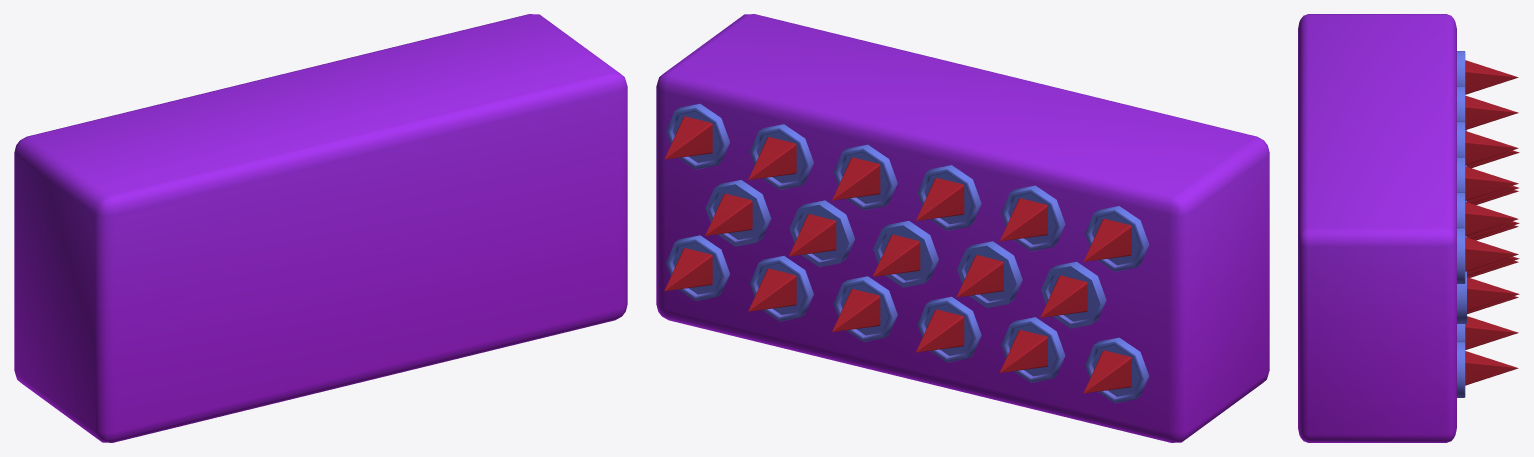
File: Obs_15.fbx
The picture shows the model from 3 angles, left to right: view 1: azimuth 30°, elevation 25°; view 2: azimuth 150°, elevation 25°; view 3: azimuth 270°, elevation 25°; orthographic projection. The views are drawn at different scales.
Parts seen in each view (by area): view 1: Obs_15; view 2: Obs_15; view 3: Obs_15.
Part boxes in pixels (bbox=[...]): Obs_15: bbox=[14, 14, 627, 442]; Obs_15: bbox=[656, 14, 1269, 442]; Obs_15: bbox=[1298, 14, 1519, 442].
Bounding box in the file's own units: 4.49 × 2 × 1.88.
